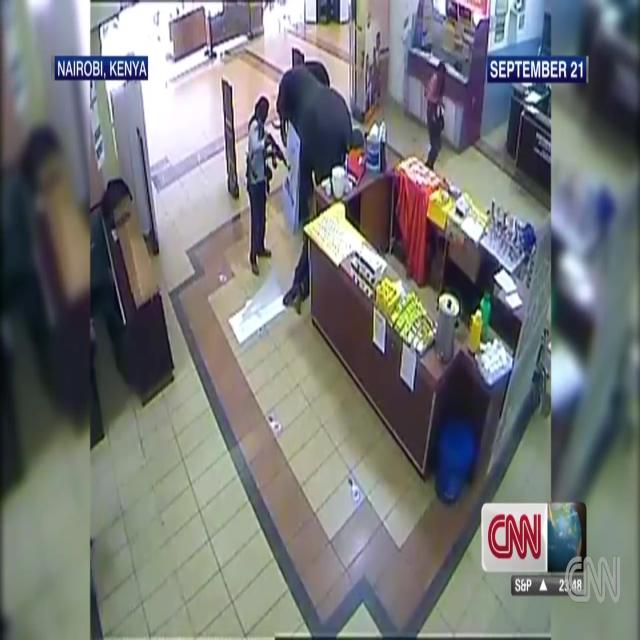Weapon: (253, 120, 296, 186)
